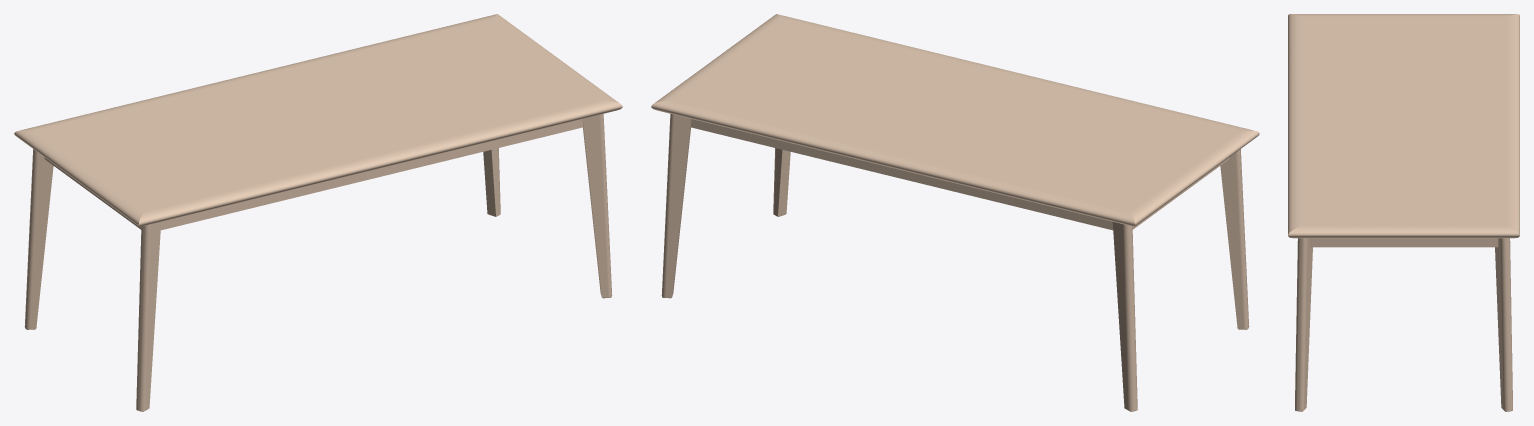
File: 545_ダイニングテーブル6人掛け.glb
3 renders of one model, left to right at view 1: azimuth 30°, elevation 25°; view 2: azimuth 150°, elevation 25°; view 3: azimuth 270°, elevation 25°, orthographic. The views are drawn at different scales.
Visible parts, largest first — view 1: Body; view 2: Body; view 3: Body.
Part boxes in pixels (left/top/right/bottom): Body: left=14, top=14, right=622, bottom=411; Body: left=651, top=14, right=1259, bottom=411; Body: left=1288, top=14, right=1519, bottom=411.
Bounding box in the file's own units: 1.8 × 0.7 × 0.8037.
